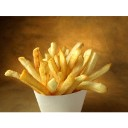frenchfries: (7, 36, 111, 96)
